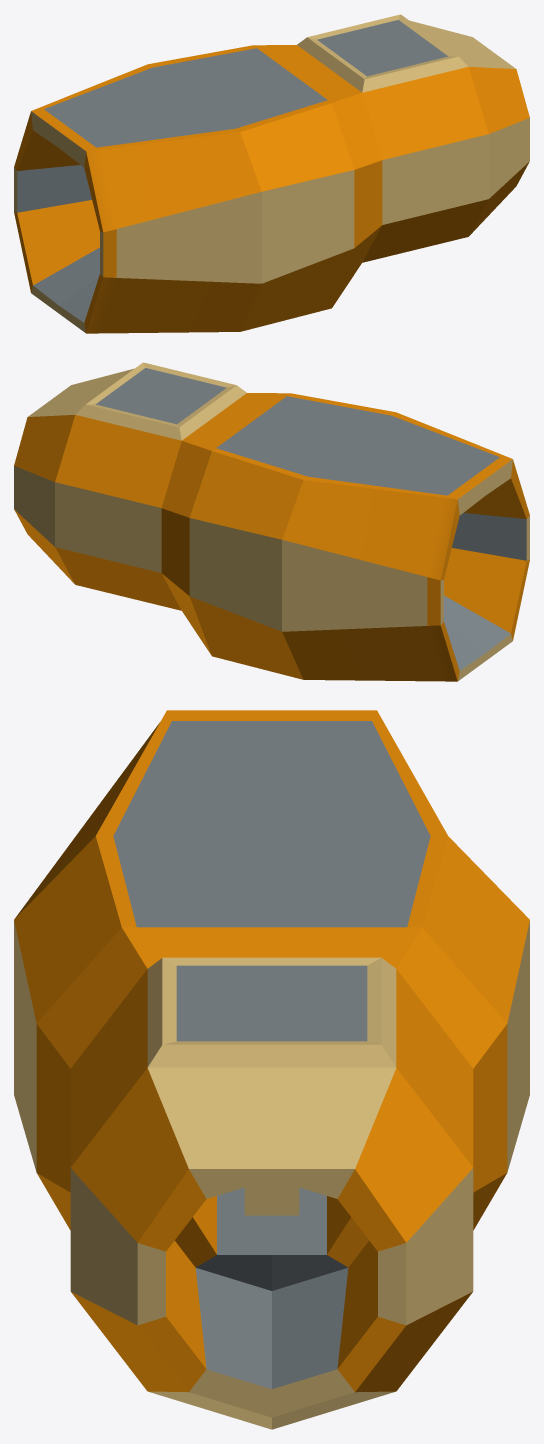
File: SM_Prop_ShoppingArm_01.fbx
3 views of the same model, one above another, from view 1: azimuth 30°, elevation 25°; view 2: azimuth 150°, elevation 25°; view 3: azimuth 270°, elevation 25° (orthographic). The views are drawn at different scales.
Parts seen in each view (by area): view 1: SM_Prop_ShoppingArm_01; view 2: SM_Prop_ShoppingArm_01; view 3: SM_Prop_ShoppingArm_01.
Part boxes in pixels (box(x1,y1,x2,y2)): SM_Prop_ShoppingArm_01: box(14, 14, 529, 333); SM_Prop_ShoppingArm_01: box(14, 362, 529, 681); SM_Prop_ShoppingArm_01: box(14, 710, 529, 1429).
Size of the model in its own units: 39 by 18 by 21.
